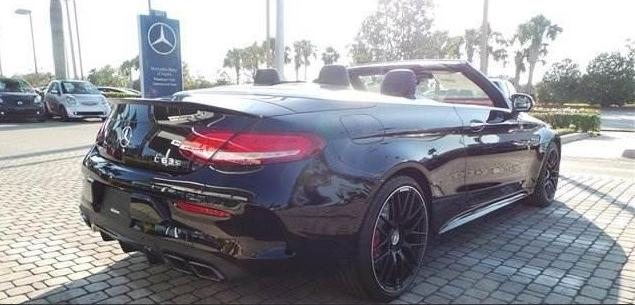C63AMG: (76, 46, 568, 297)
